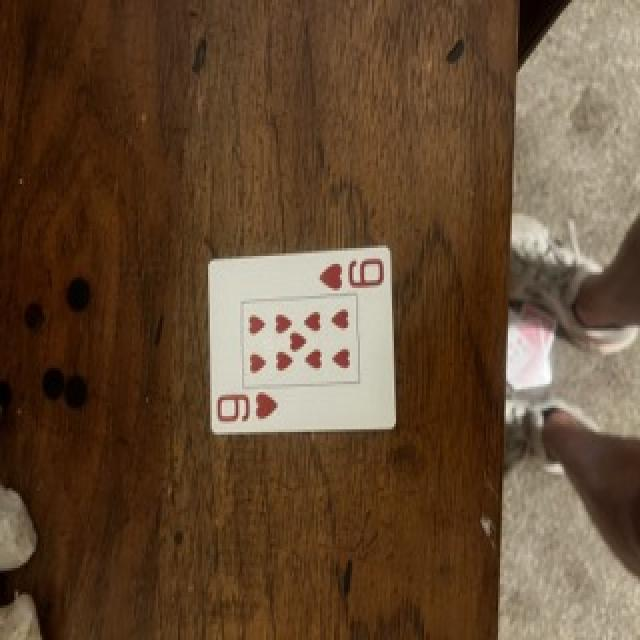9 of hearts: (209, 247, 395, 433)
